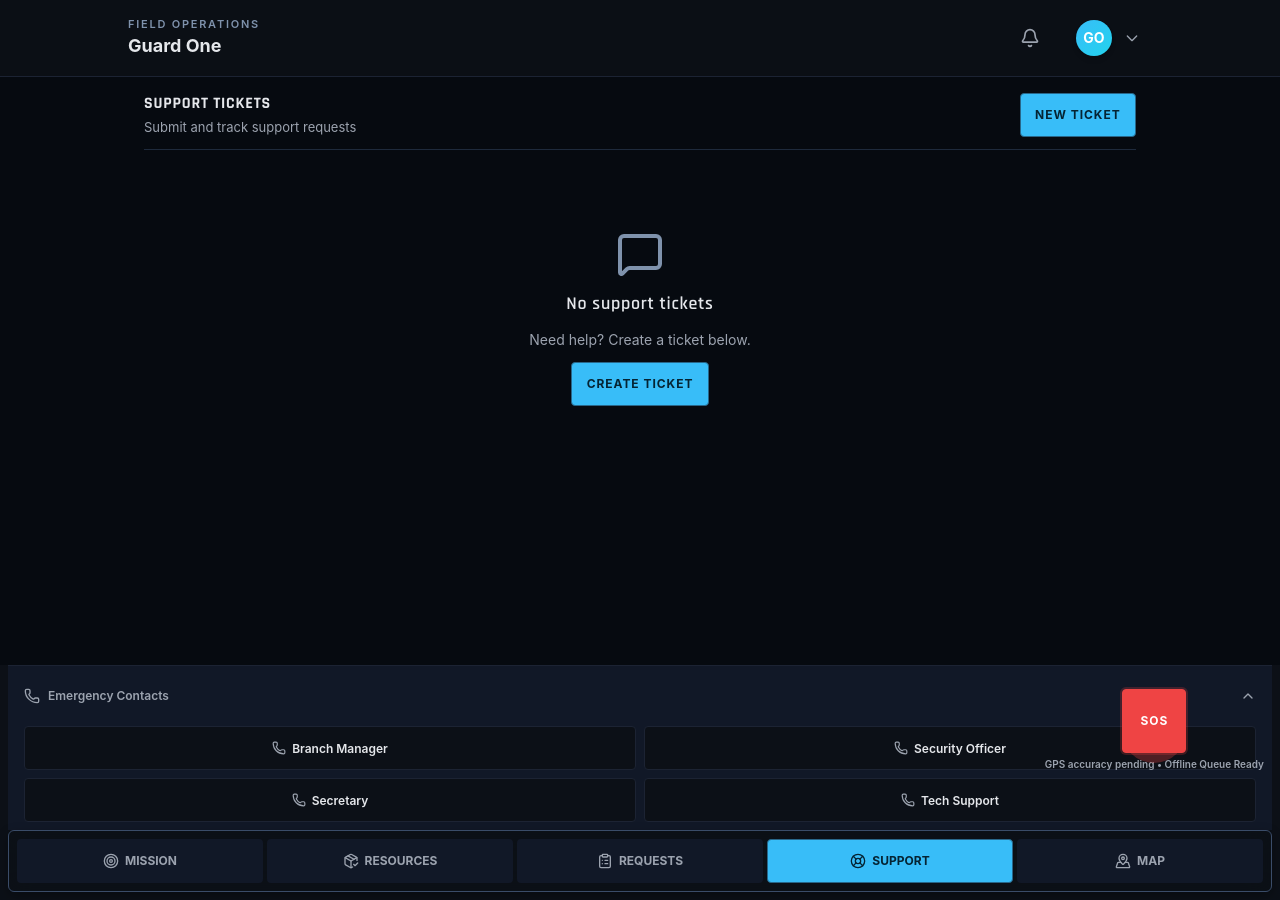
guard dashboard redesign tranche › shows support ticket validation errors to the user
Click the button "New Ticket" at (1078, 115), box [1020,93,1136,137]
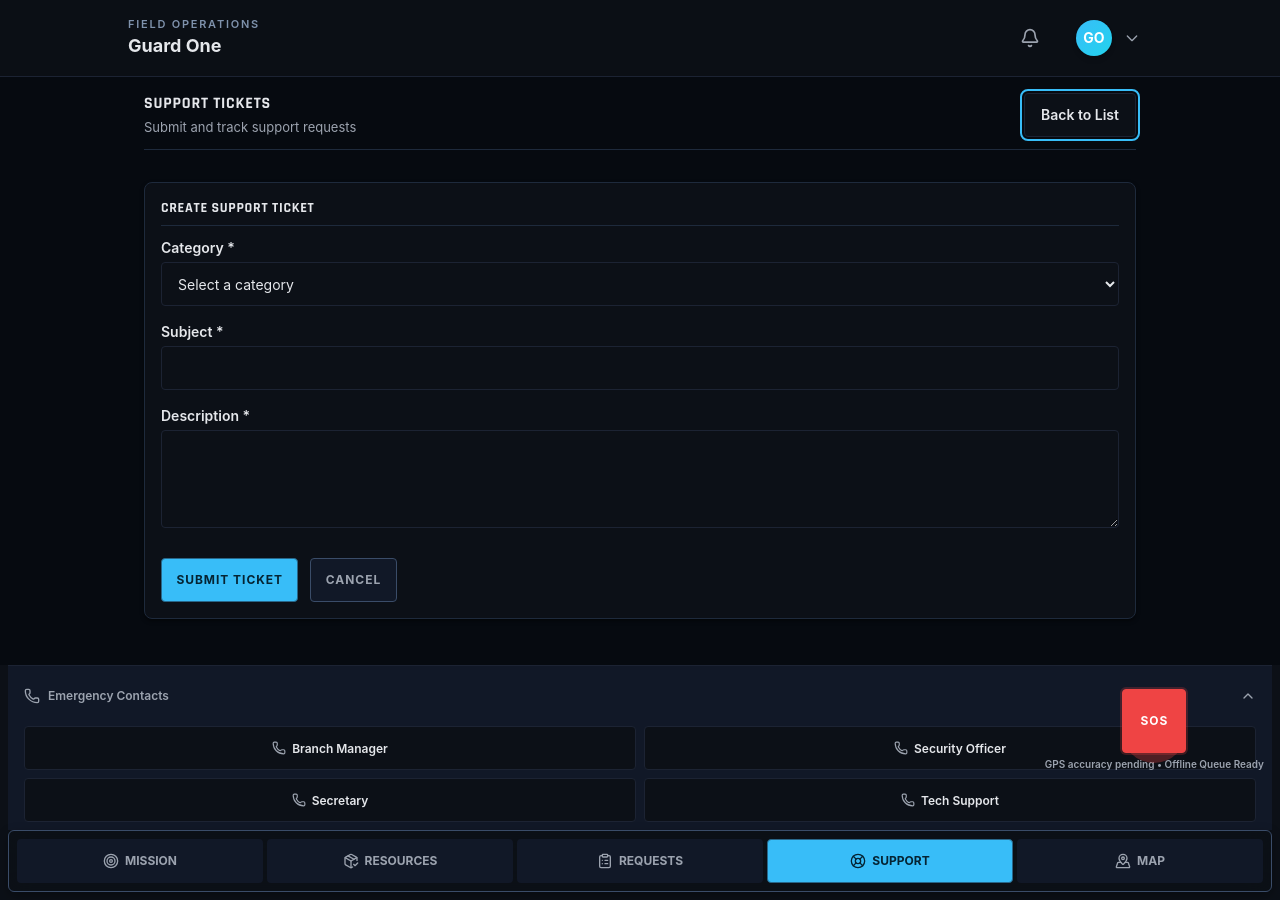
Click the button "Submit Ticket" at (230, 580), box [161,558,298,602]
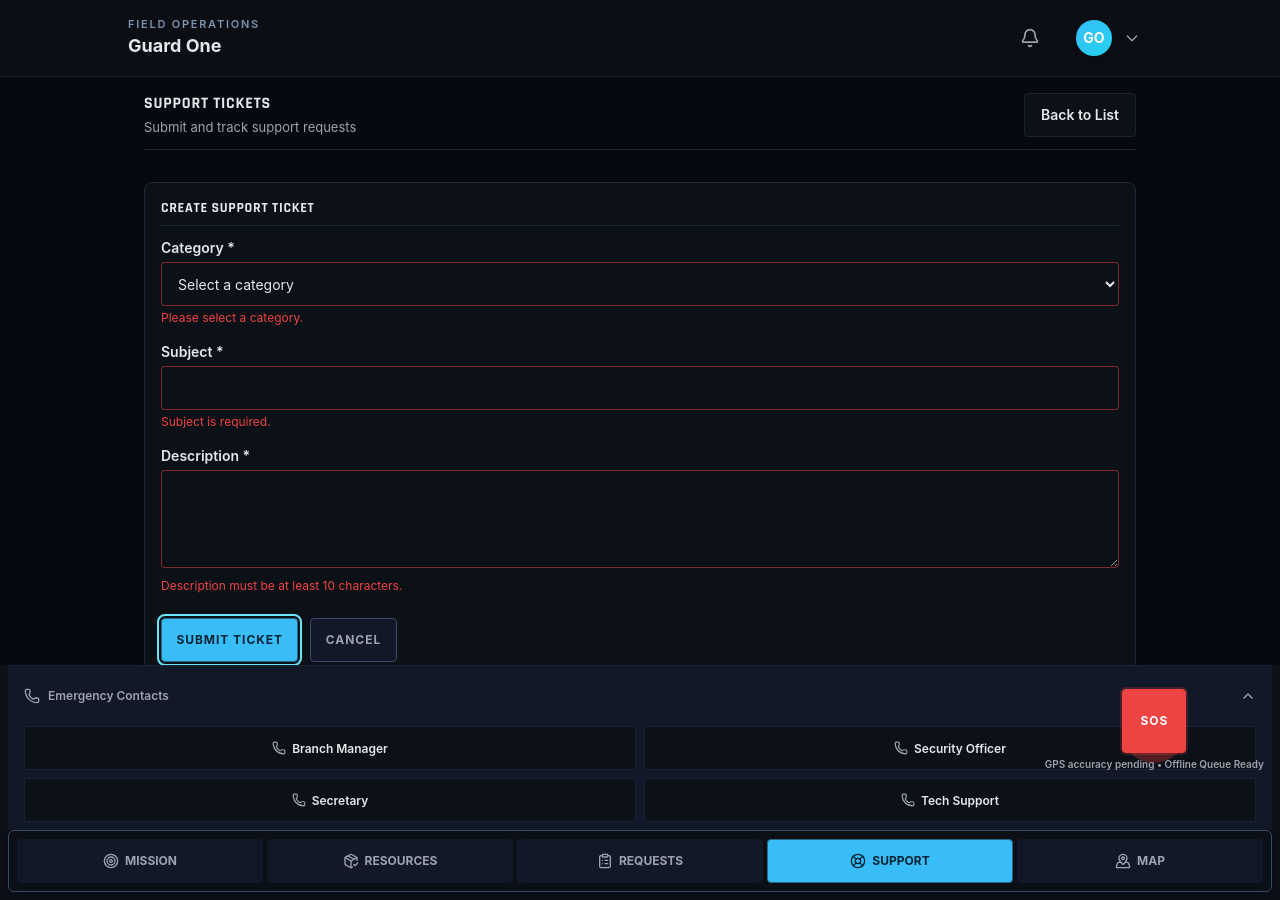
Now the text "Please select a category." is shown, box [161,310,303,325]
Now the text "Subject is required." is shown, box [161,414,271,429]
Now the text "Description must be at least 10 characters." is shown, box [161,578,402,593]
